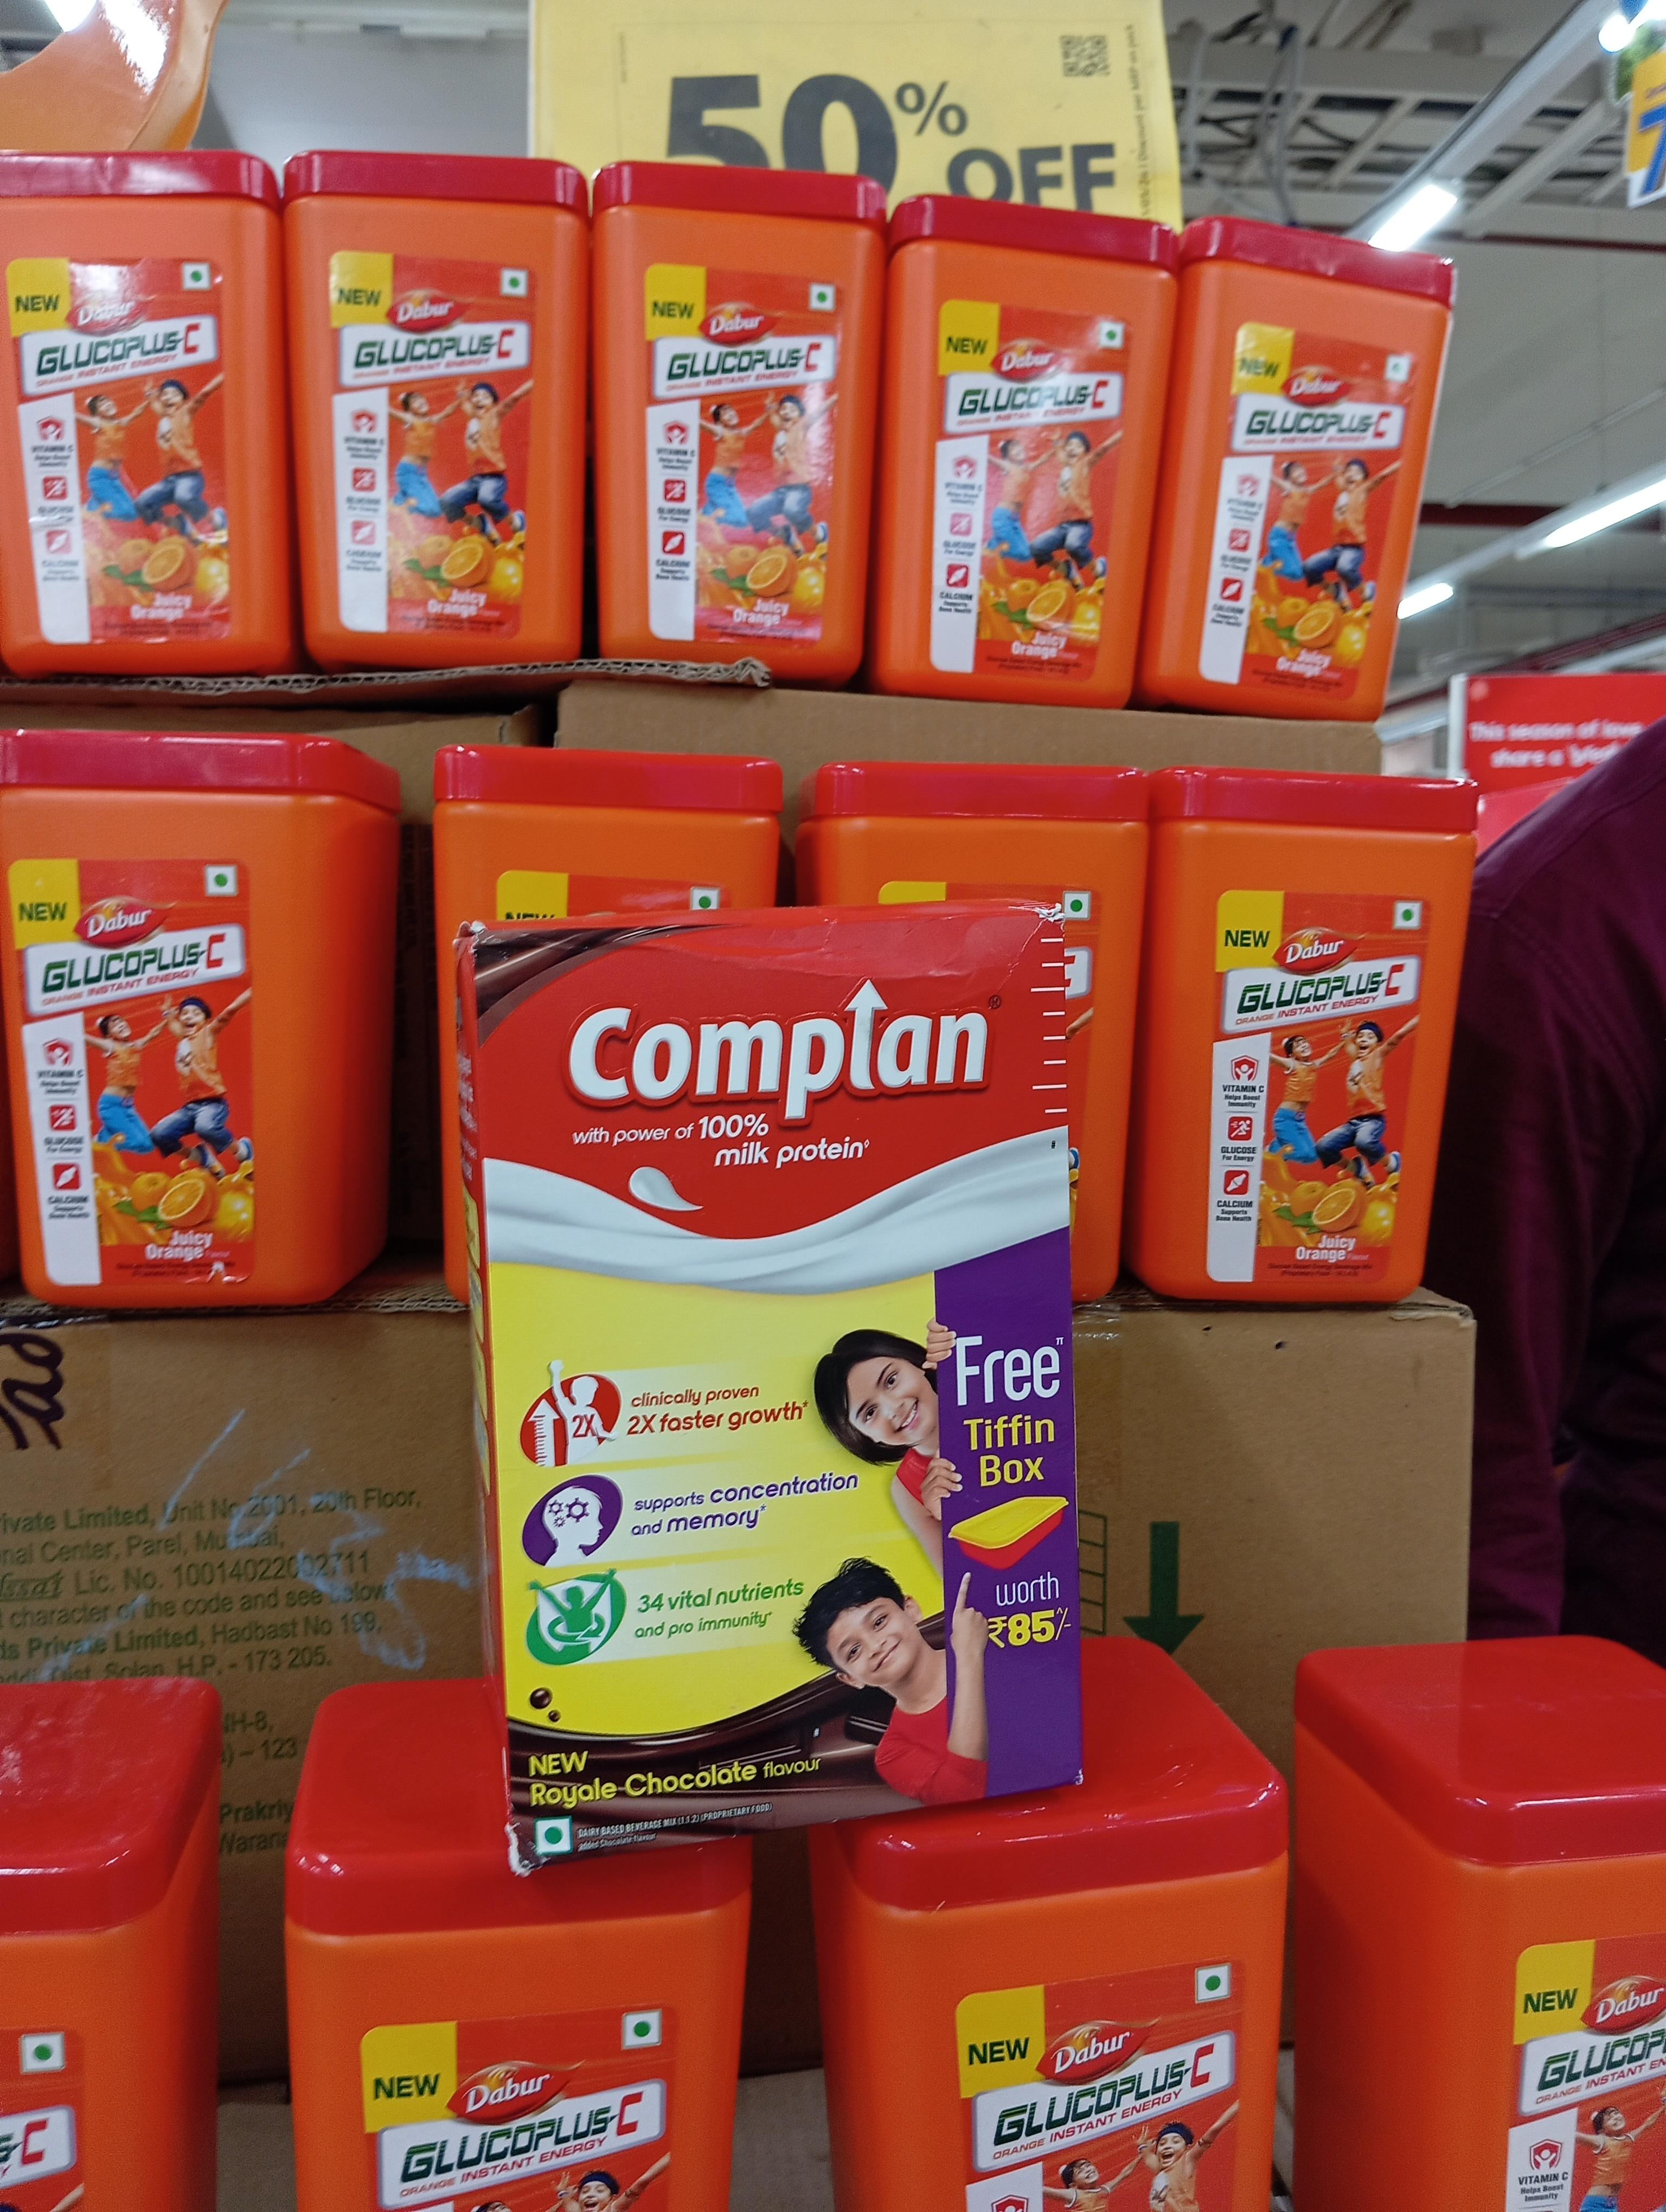COMPLAN_CHOCOLATE_500_GMS_PACK: (494, 927, 1085, 1806)
